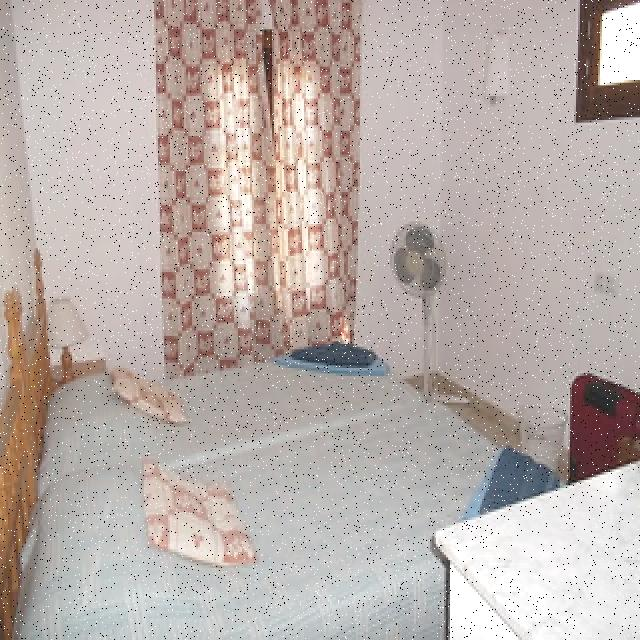bed: (0, 298, 466, 640)
